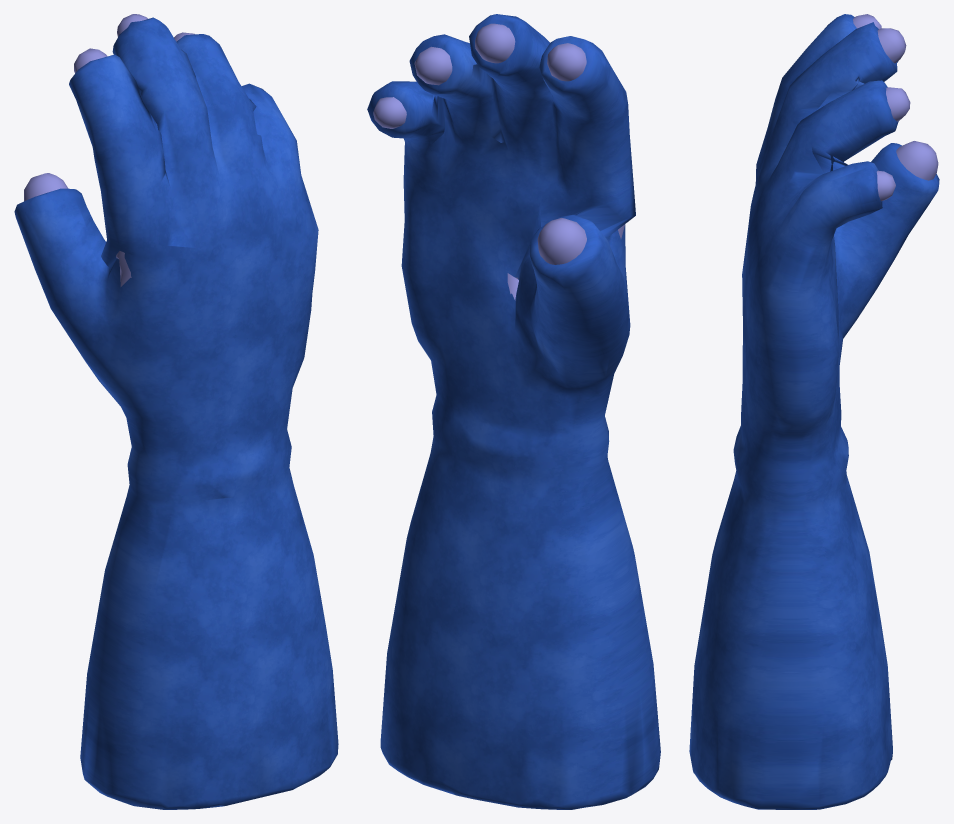
Rendered from hand_r.glb.
The picture shows the model from 3 angles, left to right: view 1: azimuth 30°, elevation 25°; view 2: azimuth 150°, elevation 25°; view 3: azimuth 270°, elevation 25°; orthographic projection. The views are drawn at different scales.
Visible parts, largest first — view 1: hand_cryo, hand_nitrile; view 2: hand_cryo, hand_nitrile; view 3: hand_cryo, hand_nitrile.
Part boxes in pixels (x1=…): hand_cryo: x1=14, y1=17, x2=338, y2=809; hand_nitrile: x1=24, y1=14, x2=194, y2=286; hand_cryo: x1=367, y1=14, x2=660, y2=809; hand_nitrile: x1=373, y1=23, x2=625, y2=300; hand_cryo: x1=689, y1=14, x2=939, y2=809; hand_nitrile: x1=853, y1=14, x2=938, y2=201.
Bounding box in the file's own units: 0.0966 × 0.2698 × 0.0852.
2 materials, 1 textured.
